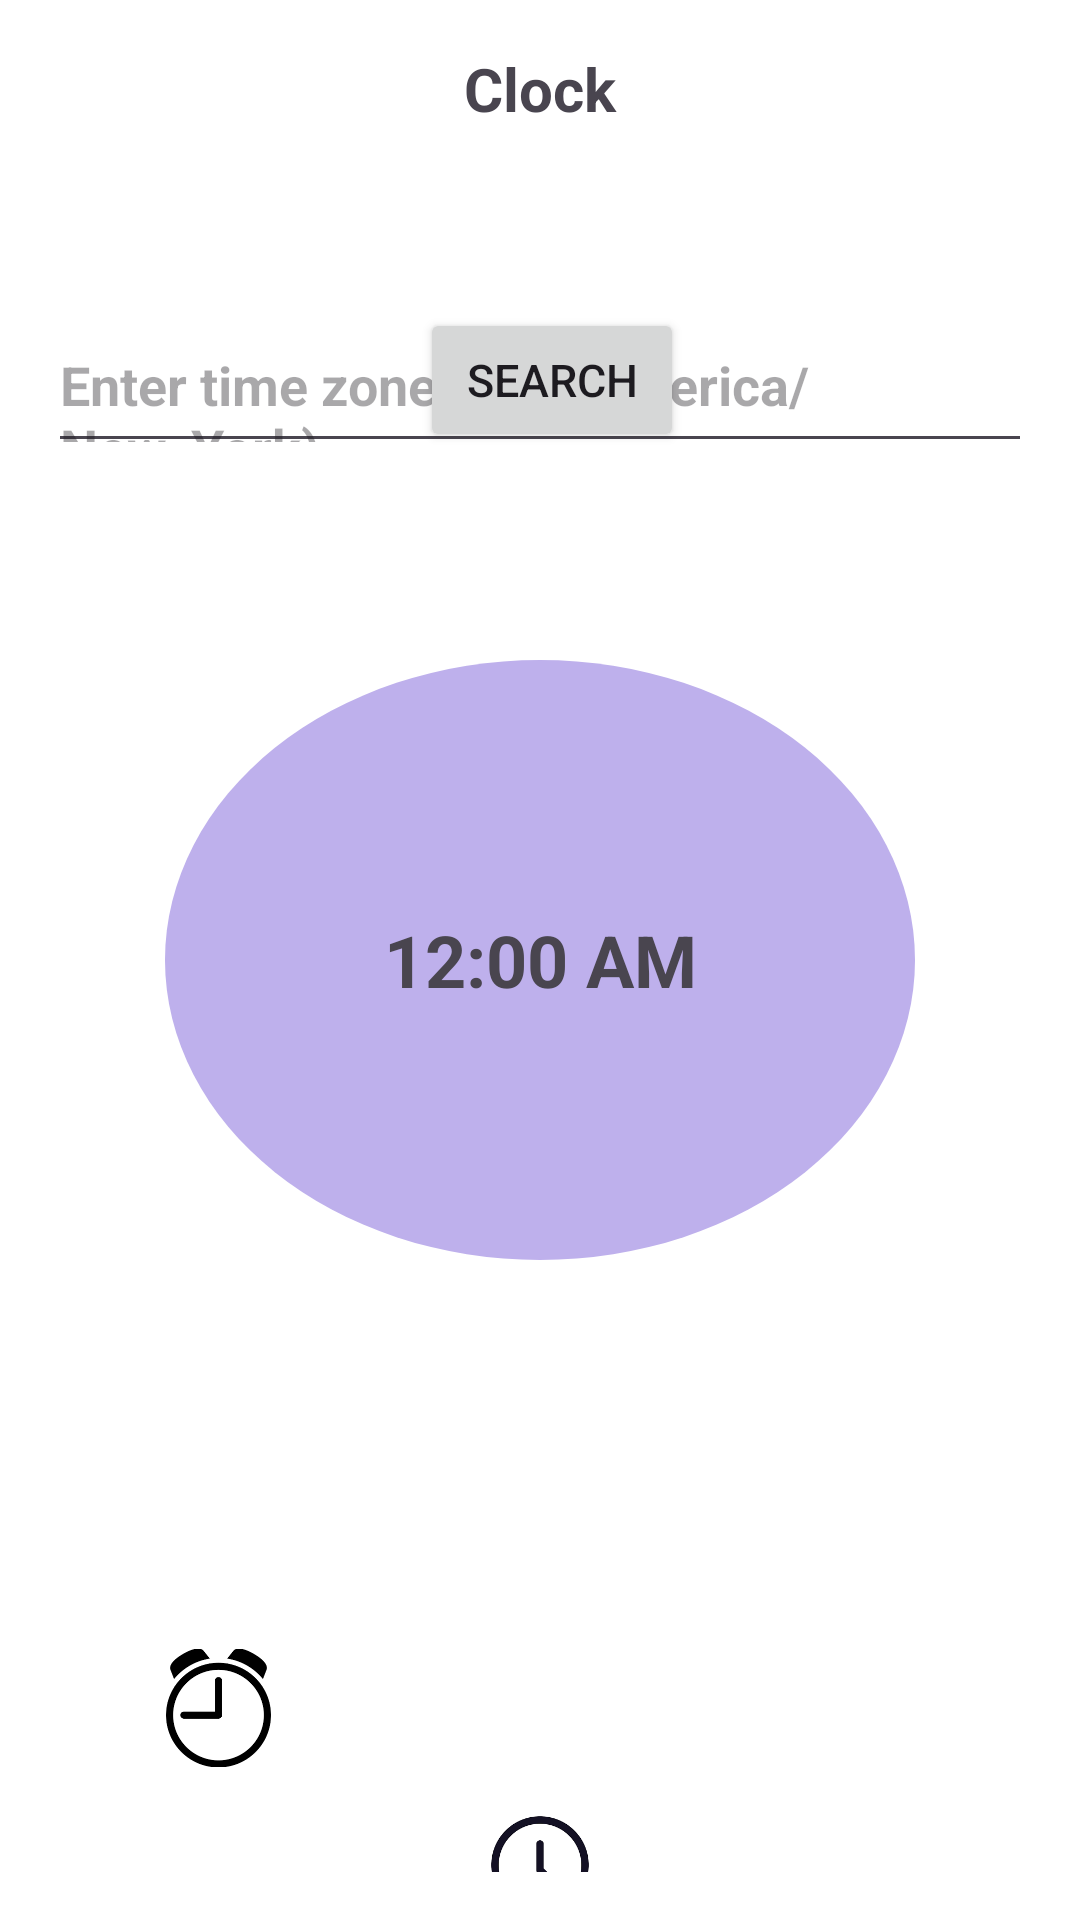

Icons on this 1080×1920 Android screen, each with its box as BBox(x1, y1, x2, y2):
alarrm: BBox(166, 1649, 271, 1767)
